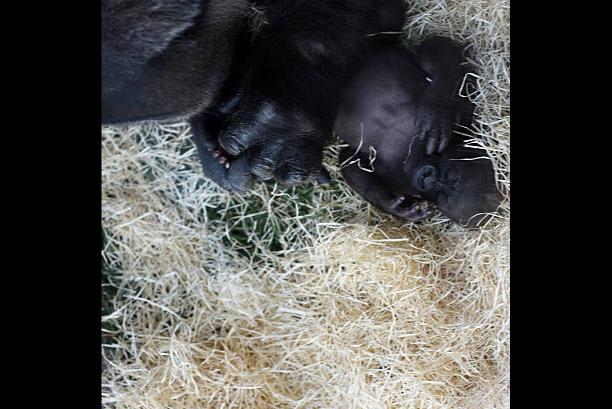gorille_Autres: (288, 19, 490, 232)
